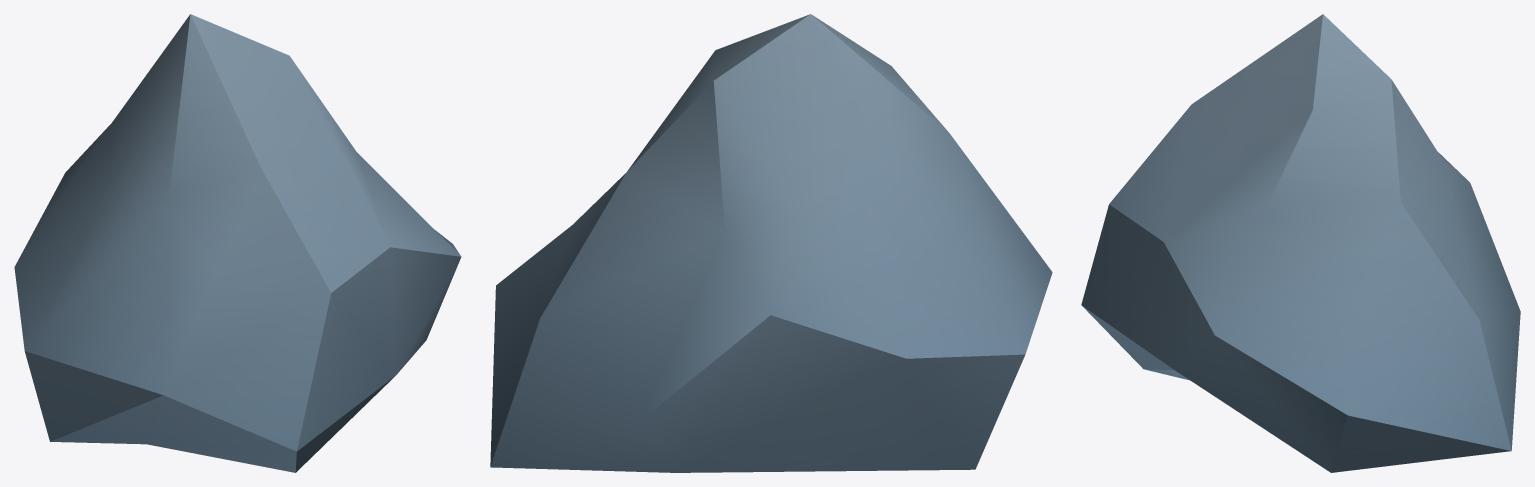
The model's file is Rock_01B.glb.
3 views of the same model, side by side, from view 1: azimuth 30°, elevation 25°; view 2: azimuth 150°, elevation 25°; view 3: azimuth 270°, elevation 25° (orthographic). The views are drawn at different scales.
Parts seen in each view (by area): view 1: Rock_01B; view 2: Rock_01B; view 3: Rock_01B.
Part boxes in pixels (<box>): Rock_01B: <box>14,14,461,472</box>; Rock_01B: <box>490,14,1052,472</box>; Rock_01B: <box>1081,14,1520,472</box>.
Bounding box in the file's own units: 1.2 × 0.9701 × 1.1.
1 material, 1 textured.
